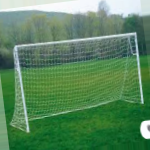goals: (8, 31, 145, 134)
